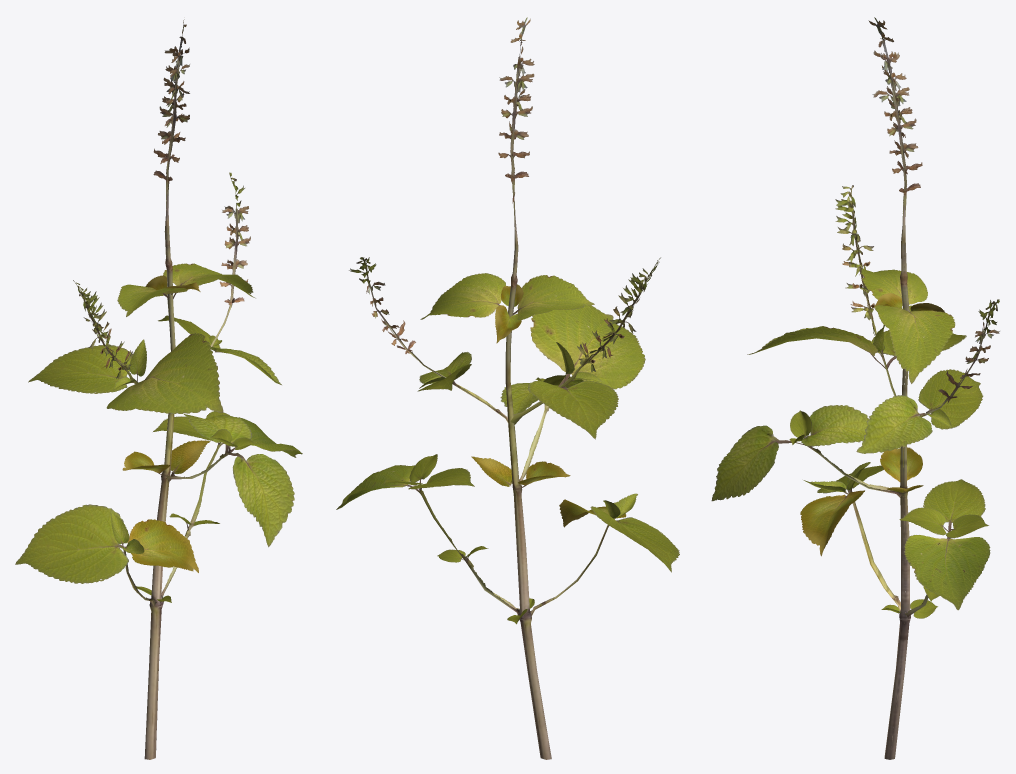
Rendered from shrub_03_04.glb.
3 renders of one model, left to right at view 1: azimuth 30°, elevation 25°; view 2: azimuth 150°, elevation 25°; view 3: azimuth 270°, elevation 25°, orthographic. The views are drawn at different scales.
Parts seen in each view (by area): view 1: shrub_03; view 2: shrub_03; view 3: shrub_03.
Part boxes in pixels (x1,y1,x2,y2): shrub_03: [15, 19, 302, 759]; shrub_03: [336, 17, 679, 759]; shrub_03: [711, 17, 999, 759].
Bounding box in the file's own units: 0.1128 × 0.2556 × 0.0893.
1 material, 1 textured.
